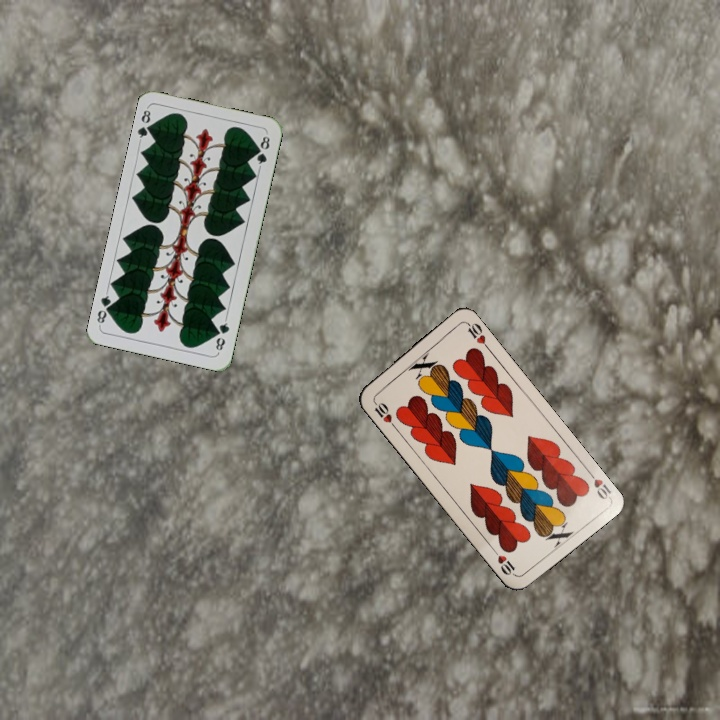G8: (134, 104, 156, 144), (212, 315, 232, 355)
H10: (583, 466, 614, 502), (369, 396, 398, 431)
